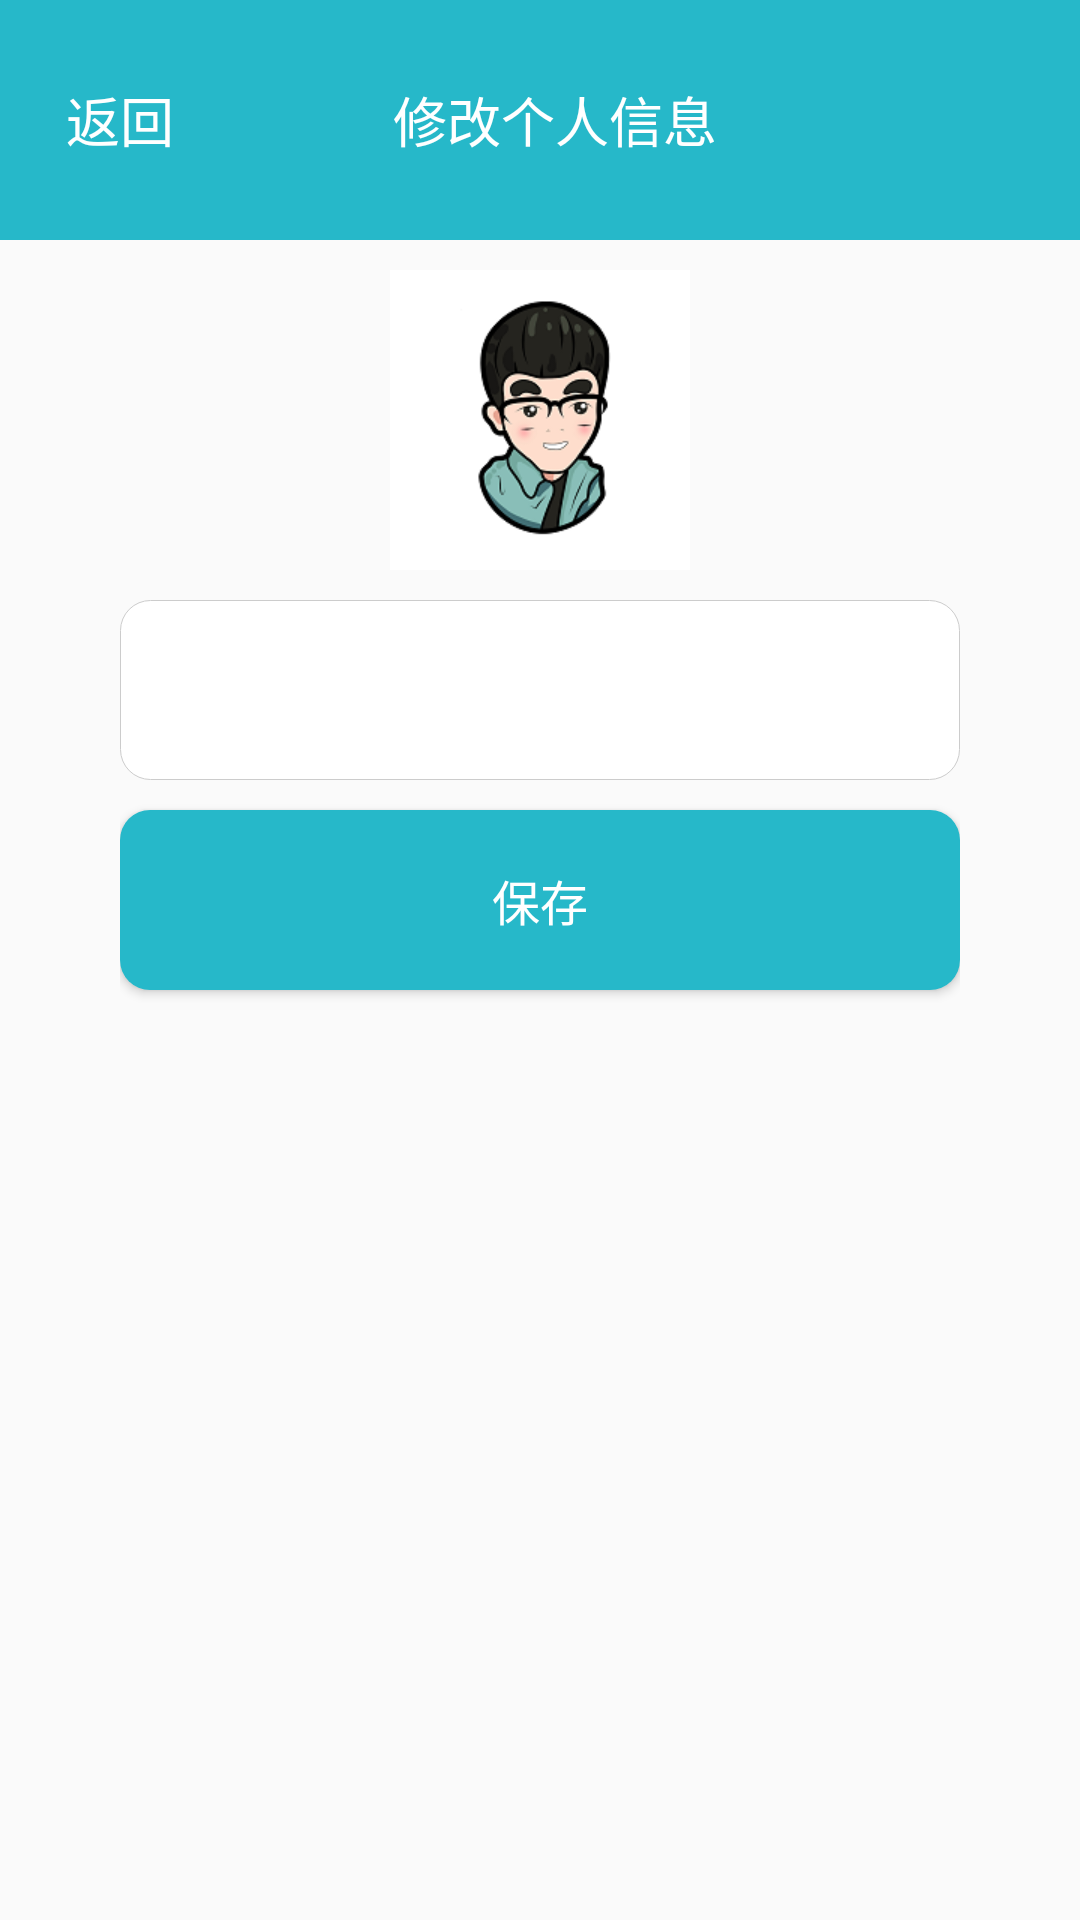

Icons on this 1080 x 1920 Android screen, each with its box as (x1,y1,x2,y2):
headm: (478,301,610,535)
